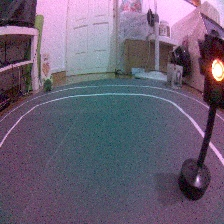amber: (176, 30, 224, 202)
